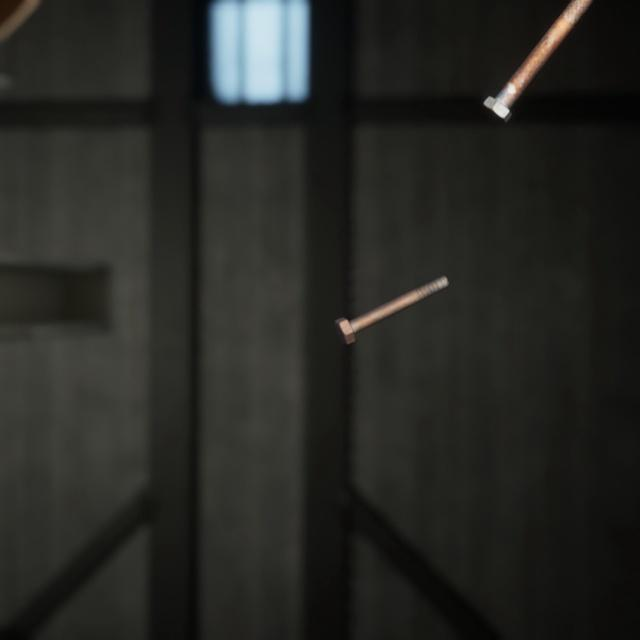bolt: (478, 0, 591, 117), (330, 254, 453, 332)
